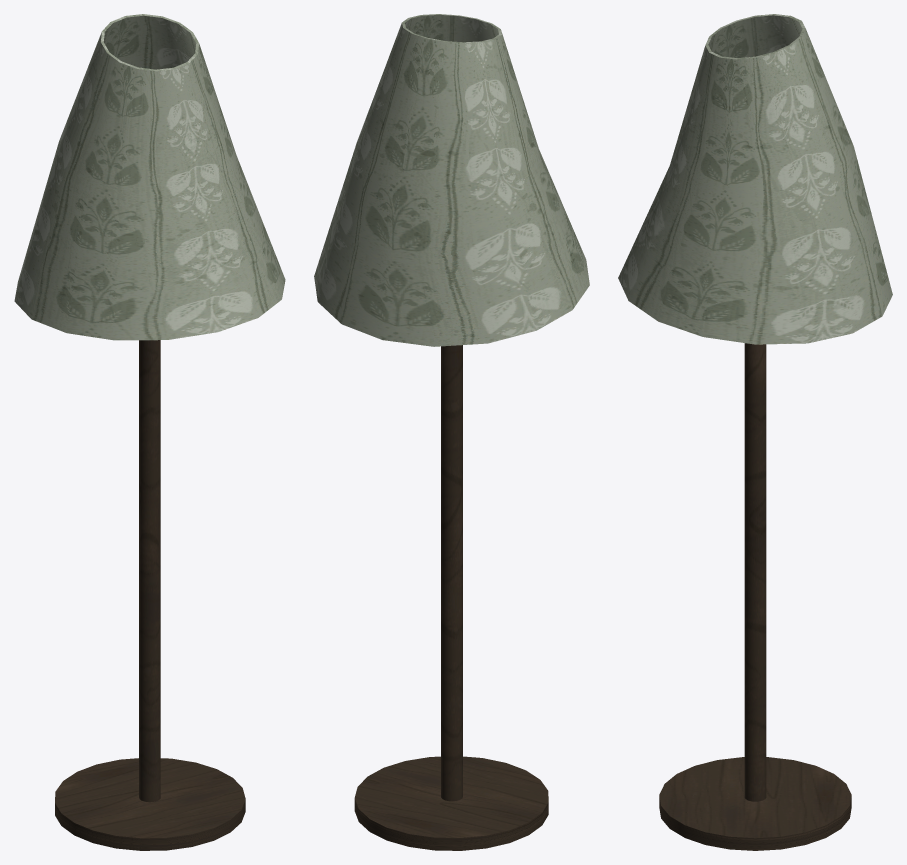
File: lamp.fbx
3 views of the same model, side by side, from view 1: azimuth 30°, elevation 25°; view 2: azimuth 150°, elevation 25°; view 3: azimuth 270°, elevation 25° (orthographic).
Parts seen in each view (by area): view 1: Object_5, Object_3; view 2: Object_5, Object_3; view 3: Object_5, Object_3.
Part boxes in pixels (bbox=[...]): Object_5: bbox=[14, 14, 285, 340]; Object_3: bbox=[55, 340, 245, 850]; Object_5: bbox=[314, 14, 589, 346]; Object_3: bbox=[354, 345, 548, 850]; Object_5: bbox=[618, 14, 892, 344]; Object_3: bbox=[659, 343, 851, 850].
Bounding box in the file's own units: 10000 × 31318 × 9977.
4 materials, 3 textured.
